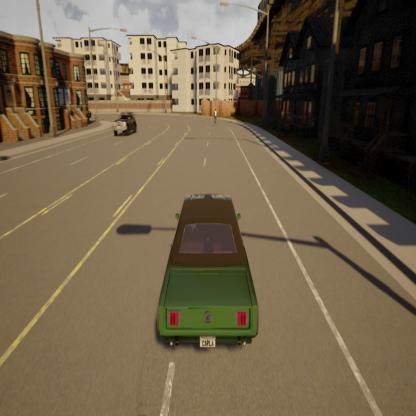Cars: (150, 186, 268, 363), (107, 105, 138, 135)
